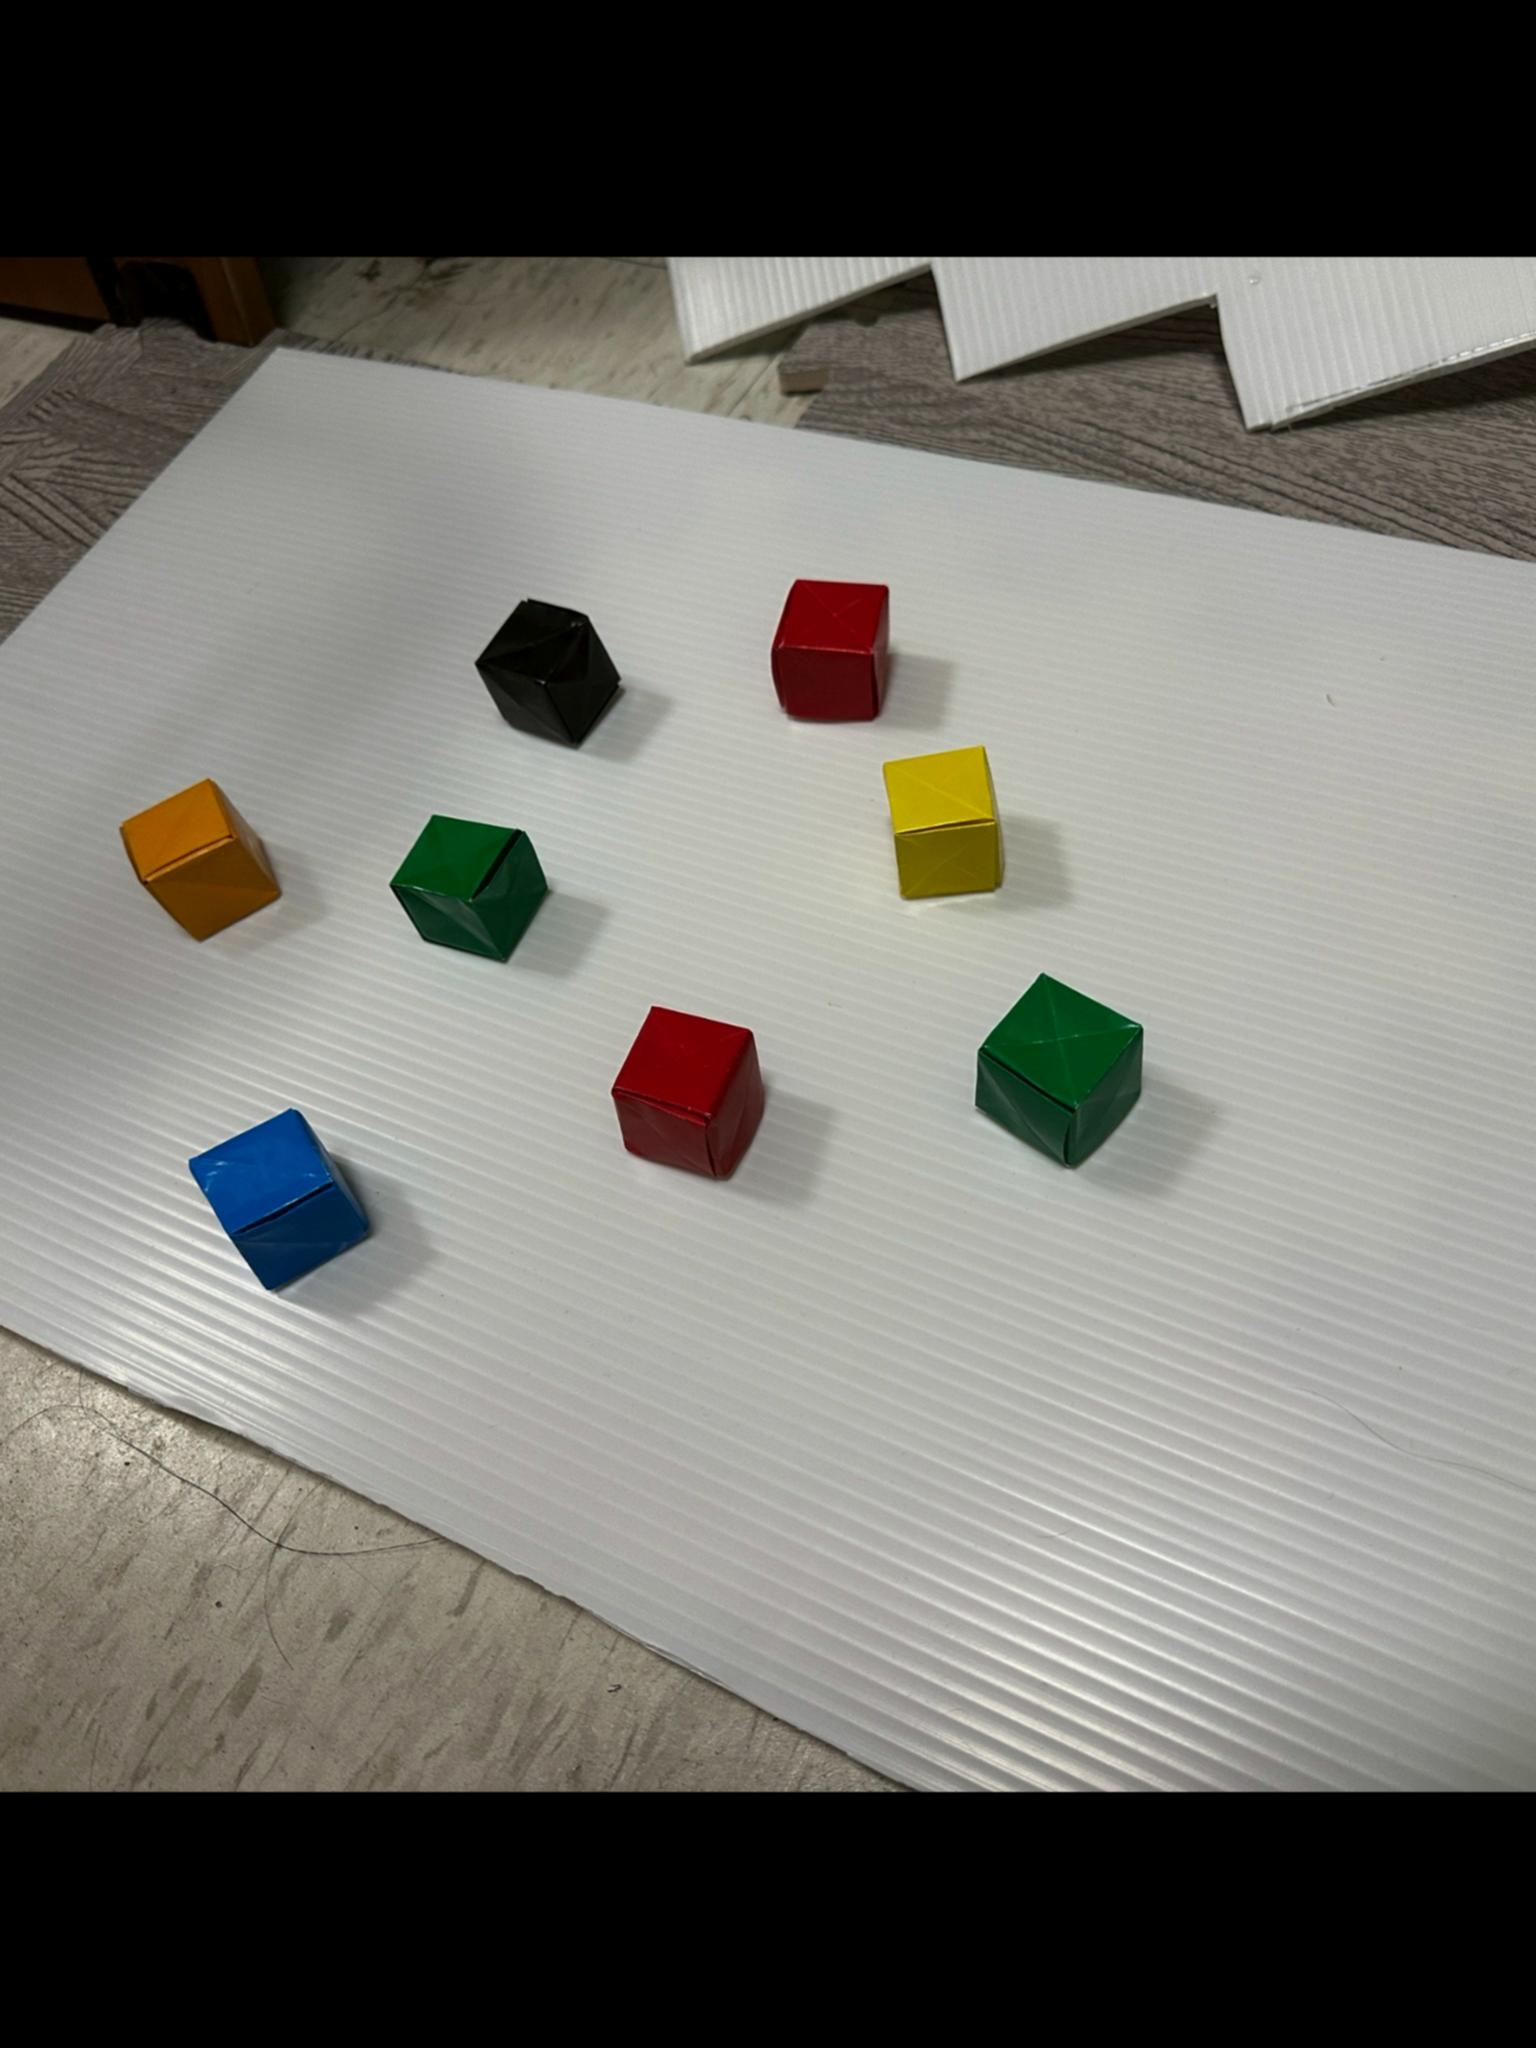base: (189, 1108, 368, 1292), (975, 972, 1142, 1166), (611, 1008, 763, 1179), (121, 779, 279, 939), (390, 814, 545, 959), (476, 598, 620, 745), (884, 747, 1004, 898), (771, 579, 887, 721)
